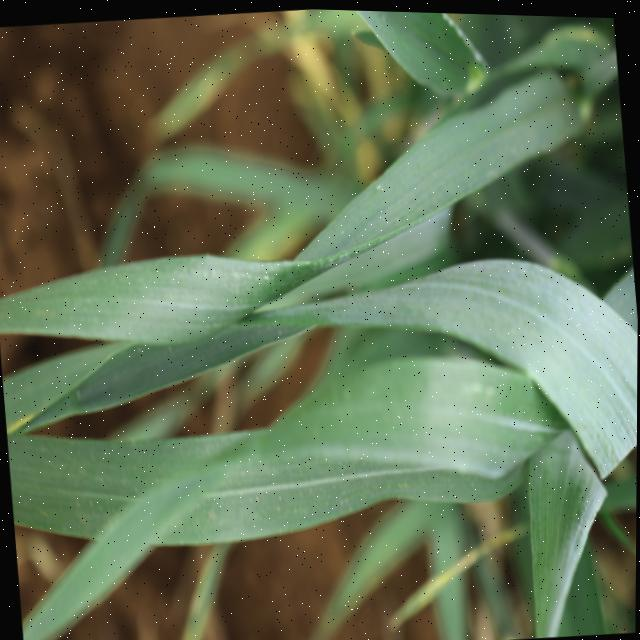healthy_wheat: (0, 189, 639, 576), (263, 30, 634, 300), (503, 409, 618, 637), (14, 515, 178, 640), (334, 8, 479, 115)
